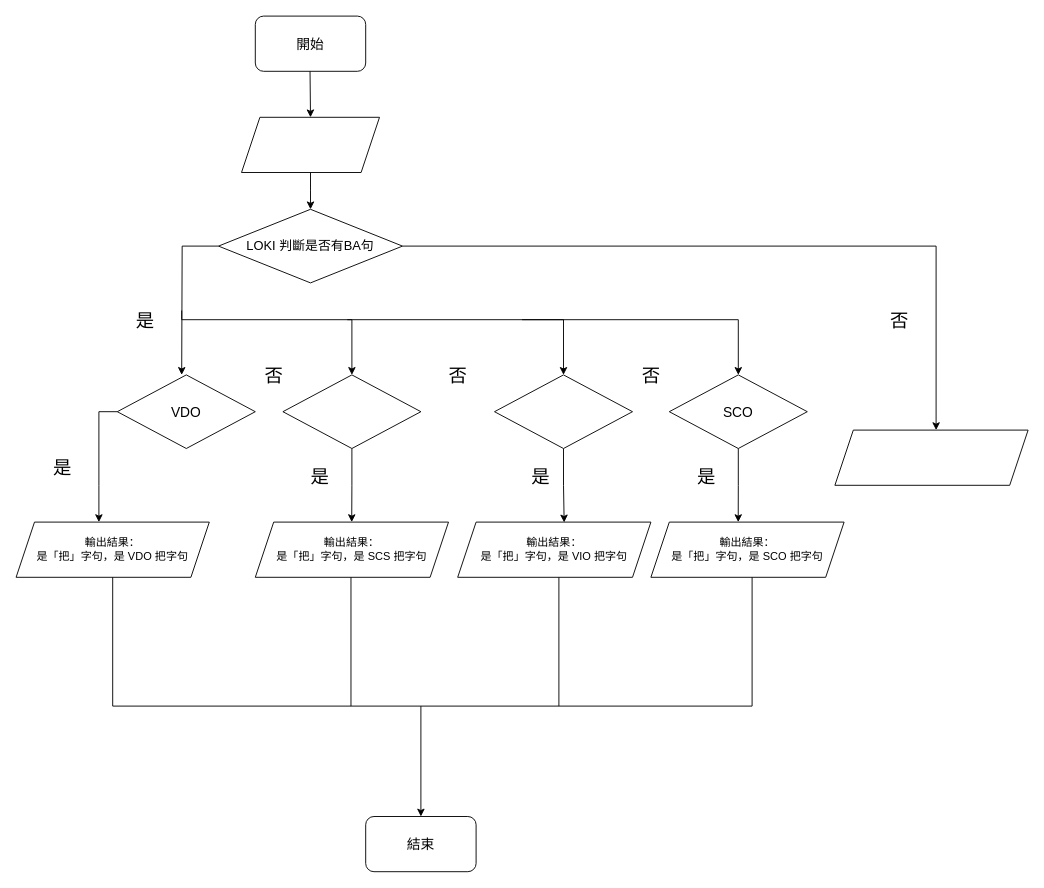
The diagram is 1044 pixels wide and 888 high, and some of its shapes have lost their labels. The box of each missing label's shape, as (x1, y1, x2, y2) in pixels:
SCS: (282, 374, 421, 448)
VIO: (494, 374, 632, 448)
輸入句子: (241, 116, 380, 172)
輸出結果： 不是「把」字句: (834, 429, 1028, 485)
